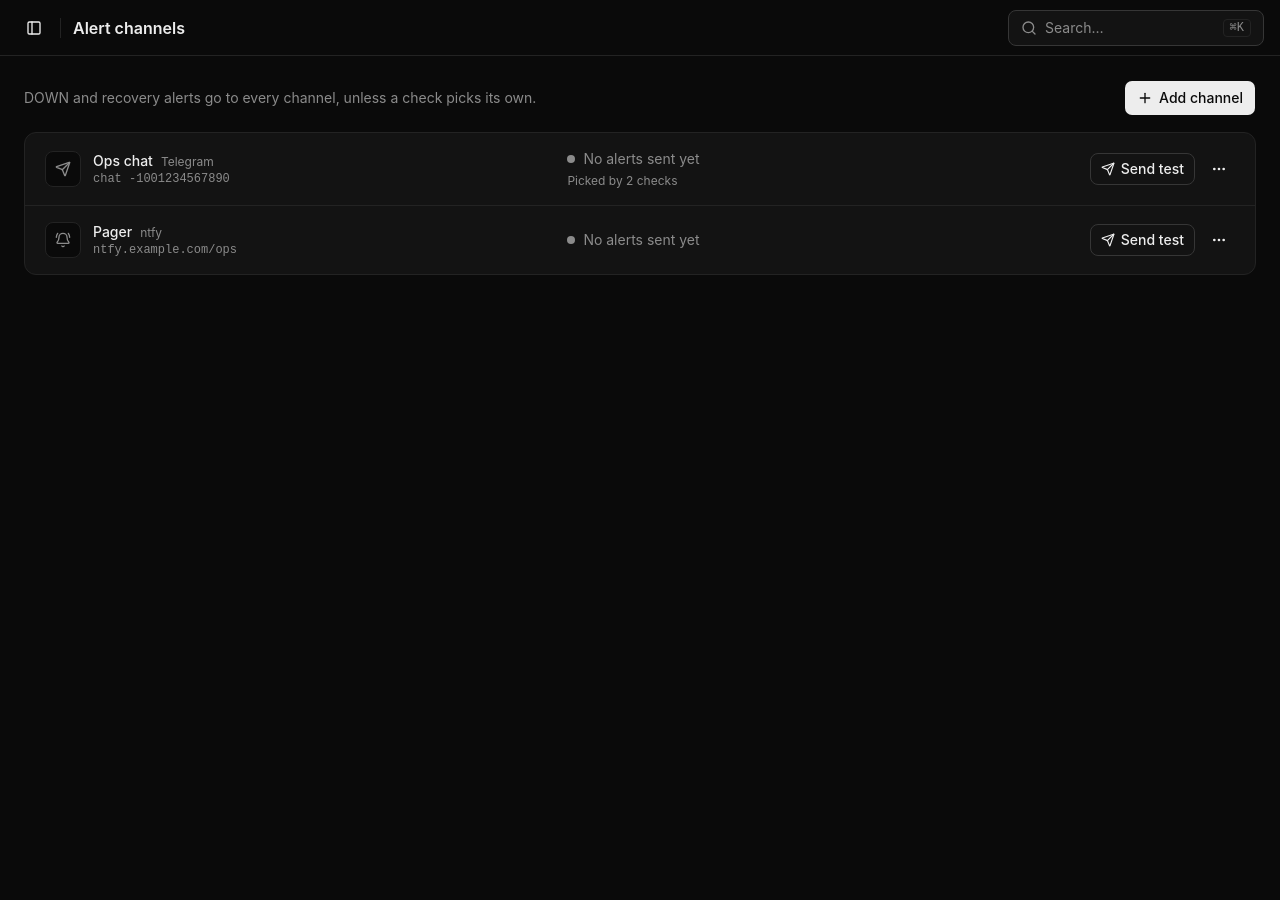
Test: Channels page › shows how many checks picked a channel, and warns before deleting it
Expected: the text "ntfy.example.com/ops" is shown, [93,242,237,258]
Expected: the text "Picked by 2 checks" is shown once, [567,173,678,188]
Click the button named "Actions: Ops chat" at coordinates (1219, 169), box [1203,153,1235,185]
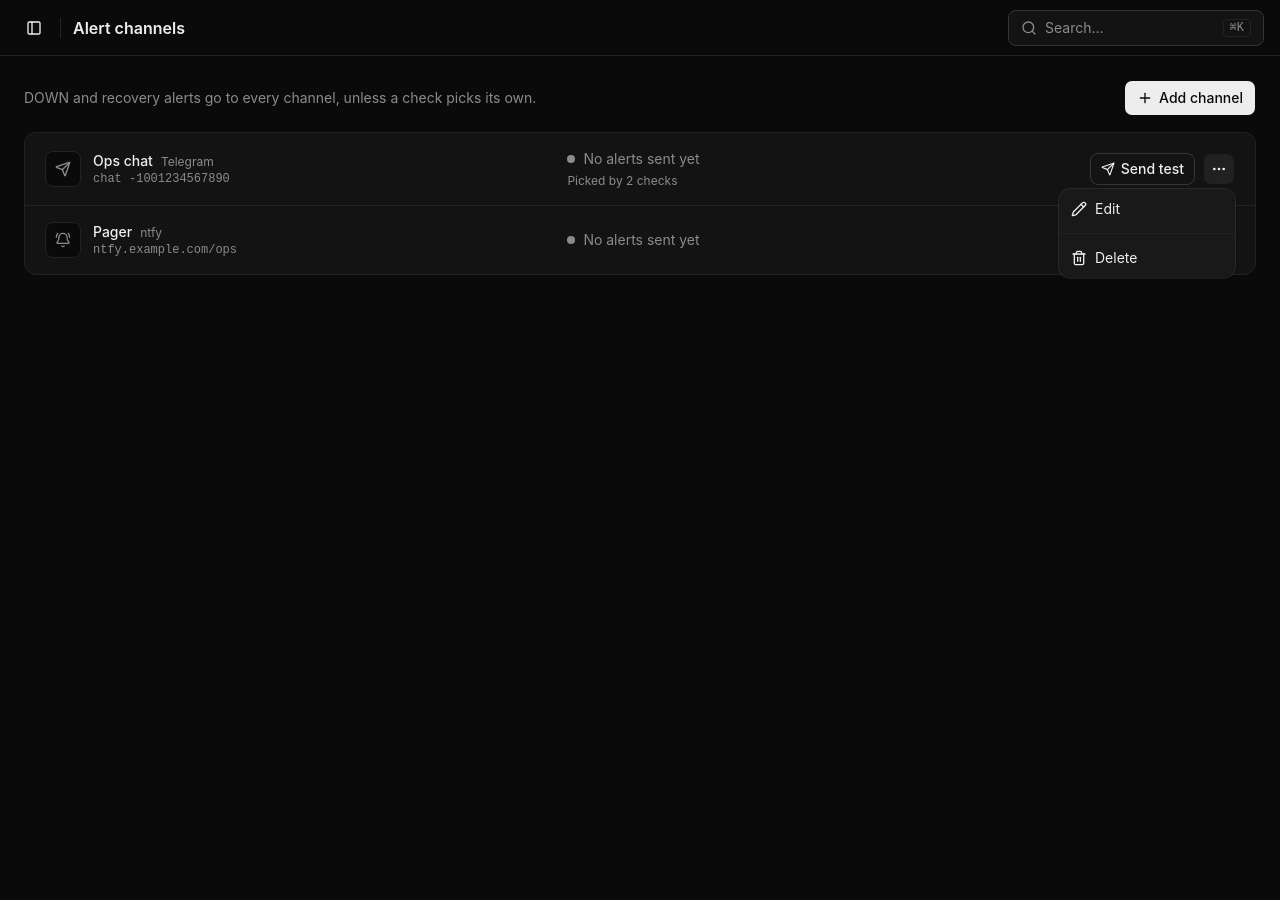
Click the menu item "Delete" at coordinates (1104, 258), box [1071,249,1137,266]
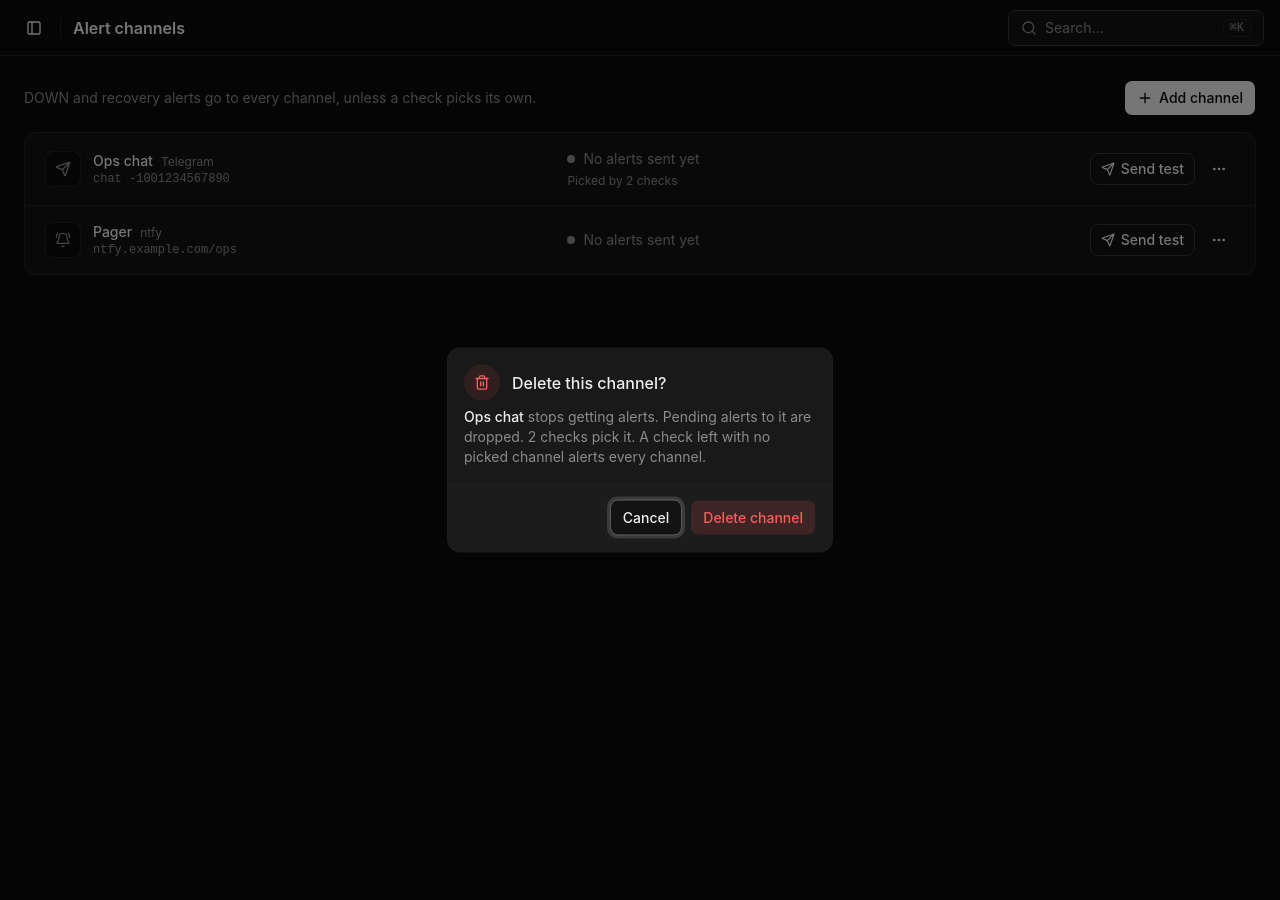
Expected: the text "2 checks pick it. A check left with no picked channel" is shown, [464,428,770,464]
